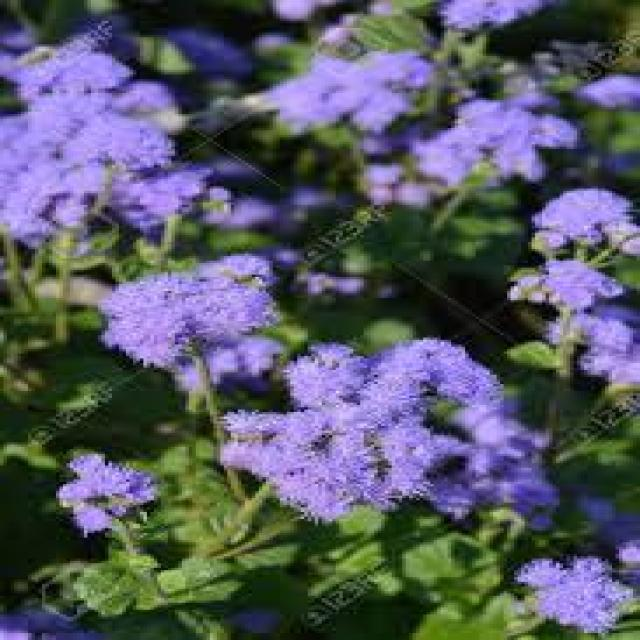organic waste: (199, 338, 511, 516), (518, 182, 633, 382), (89, 250, 268, 369), (54, 448, 163, 539), (518, 555, 636, 634)
